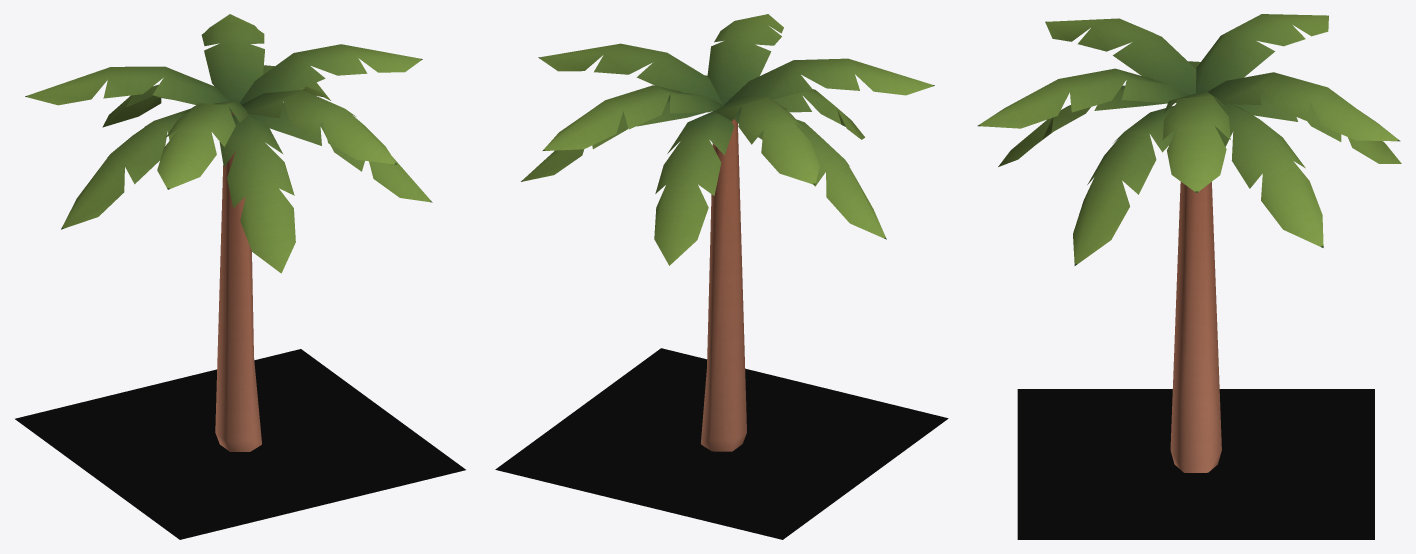
Rendered from palm_3.fbx.
The picture shows the model from 3 angles, left to right: view 1: azimuth 30°, elevation 25°; view 2: azimuth 150°, elevation 25°; view 3: azimuth 270°, elevation 25°; orthographic projection. The views are drawn at different scales.
Parts seen in each view (by area): view 1: palm_3, palm_shadow; view 2: palm_3, palm_shadow; view 3: palm_3, palm_shadow.
Boxes of the visible parts, x1,y1,x2,y2 form: palm_3: (25,14,432,451); palm_shadow: (15,349,465,539); palm_3: (521,14,934,451); palm_shadow: (495,348,948,539); palm_3: (977,14,1401,472); palm_shadow: (1017,389,1374,539).
Size of the model in its own units: 371 by 374 by 357.
